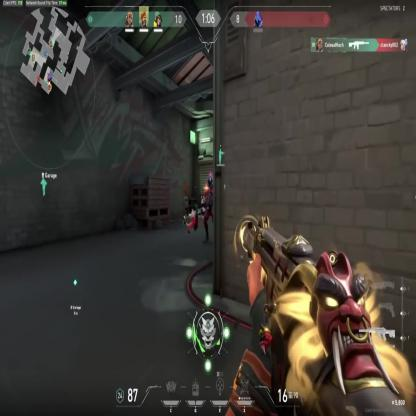enemy: (203, 170, 218, 244)
enemy_head: (208, 173, 213, 188)
